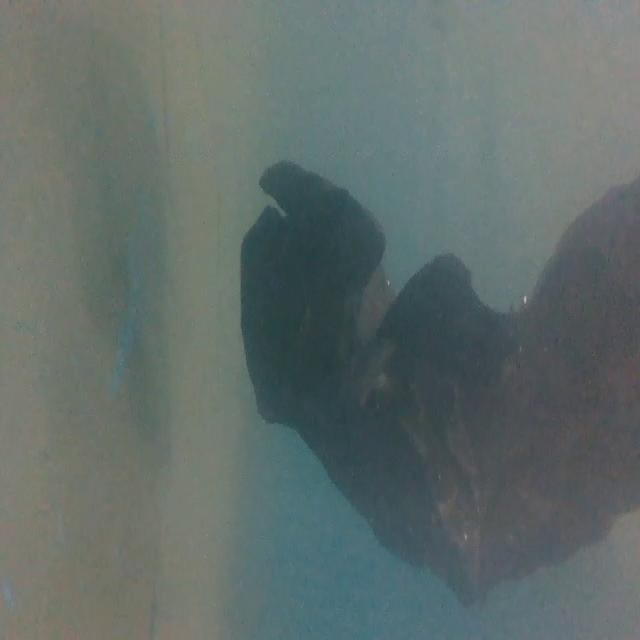plastic bags: (238, 157, 640, 606)
